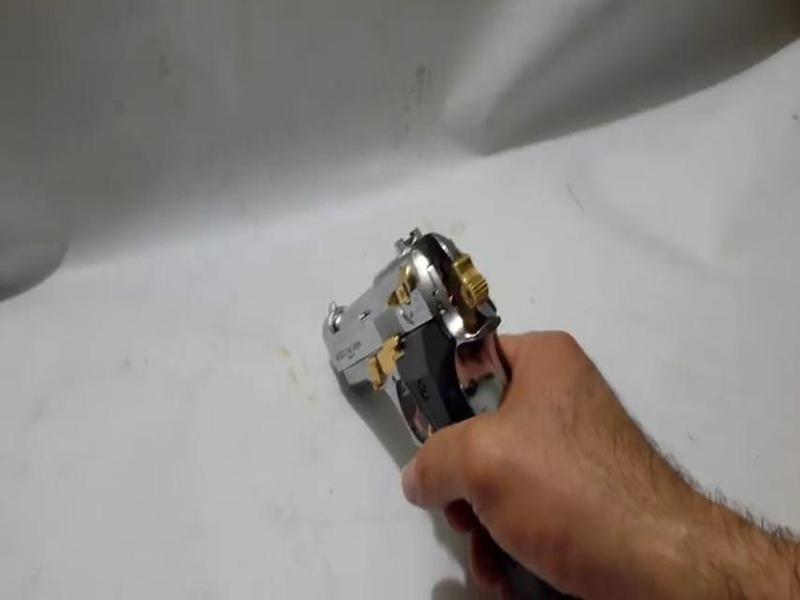Pistola: (310, 220, 539, 554)
